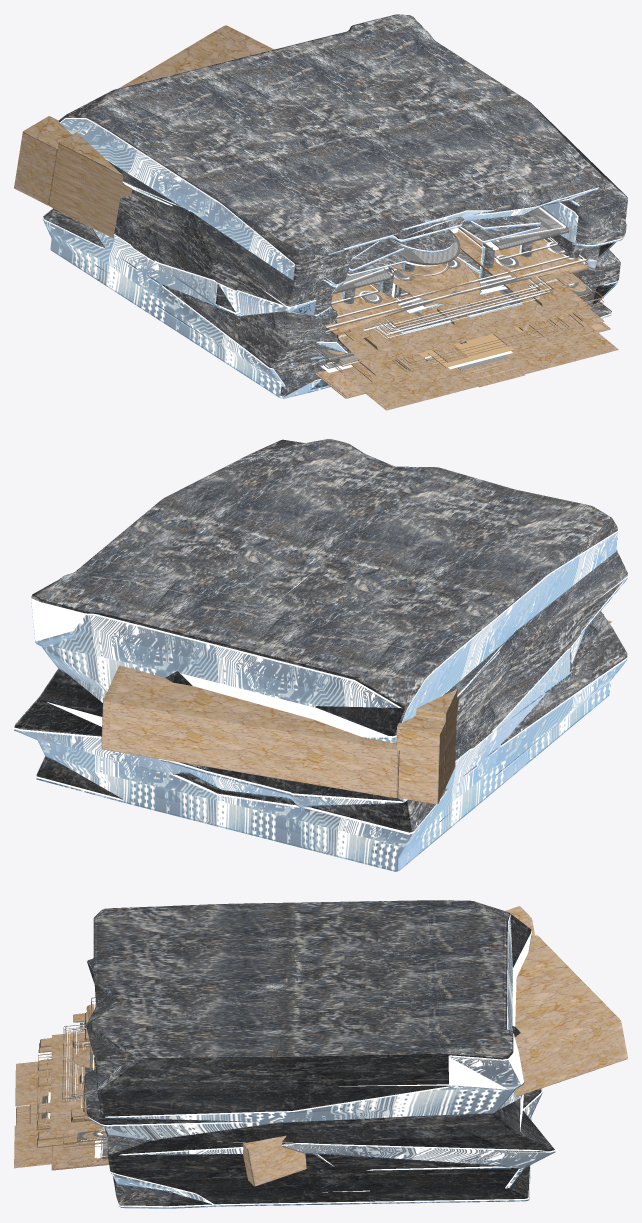
The model's file is dmstonetemple.glb.
3 renders of one model, top to bottom at view 1: azimuth 30°, elevation 25°; view 2: azimuth 150°, elevation 25°; view 3: azimuth 270°, elevation 25°, orthographic. The views are drawn at different scales.
Parts seen in each view (by area): view 1: stairs.002; view 2: stairs.002; view 3: stairs.002.
Part boxes in pixels (left/top/right/bottom): stairs.002: left=14, top=14, right=627, bottom=410; stairs.002: left=14, top=439, right=627, bottom=871; stairs.002: left=14, top=900, right=627, bottom=1208.
Size of the model in its own units: 6.24 by 2.41 by 8.54.
Materials: 7 (5 with a texture image).
